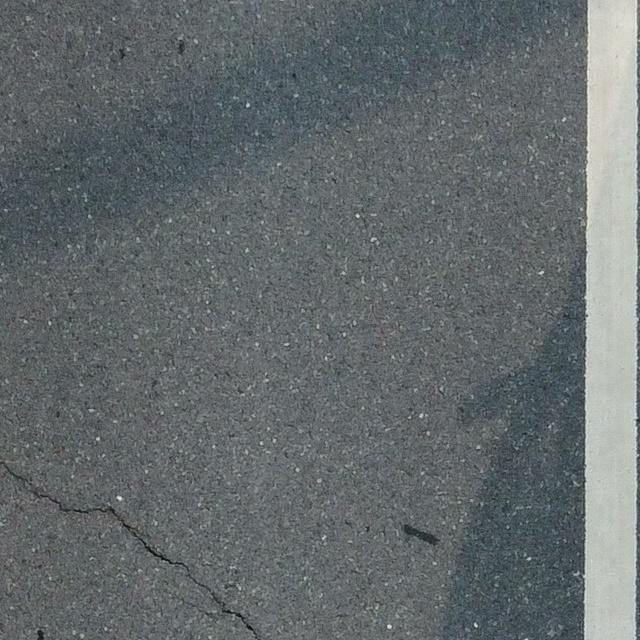TransverseCrack: (1, 462, 255, 637)
